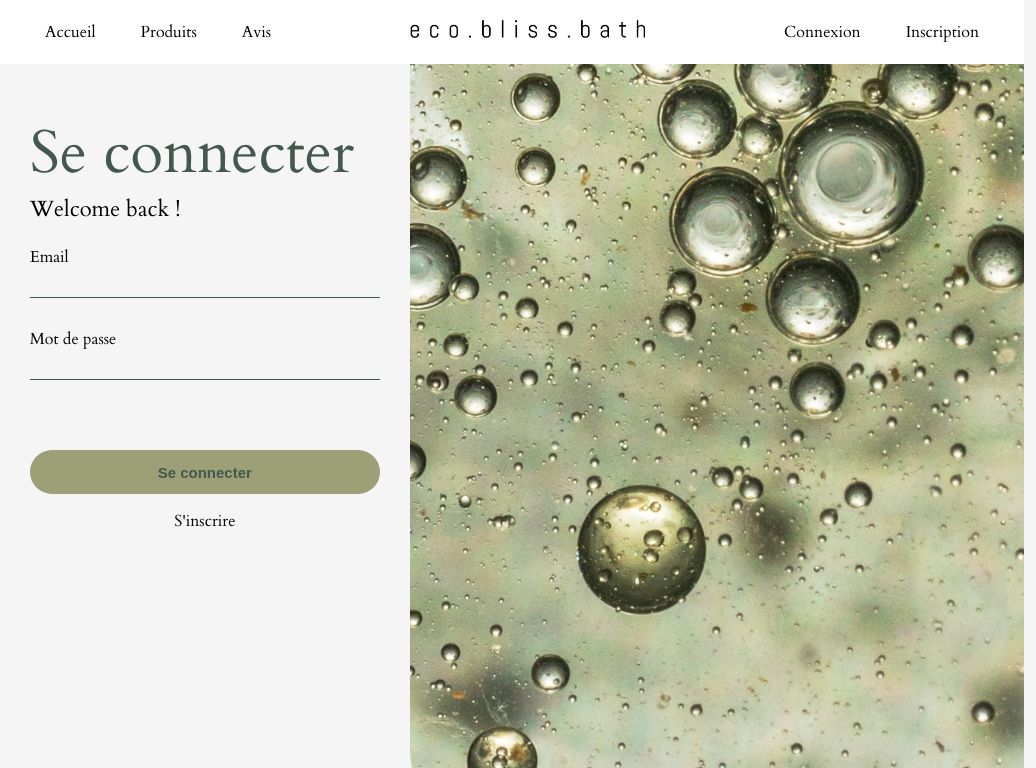
Scenario: Tests de sécurité XSS sur la page de connexion › Ne doit pas exécuter un script XSS via une balise img
Step 1. Type "<img src=x onerror=alert(\"XSS\")>" into the field with test id "login-input-username" → (205, 283), box [30, 268, 380, 298]
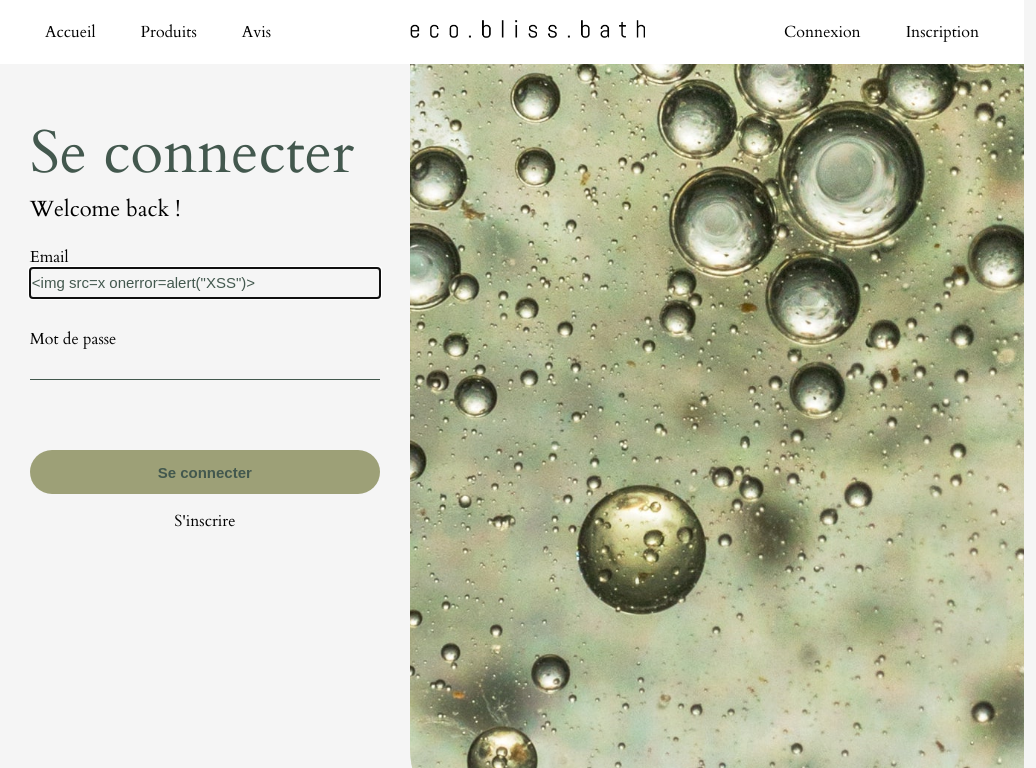
Step 2. Type "testtest" into the password field with test id "login-input-password" → (205, 365), box [30, 350, 380, 380]
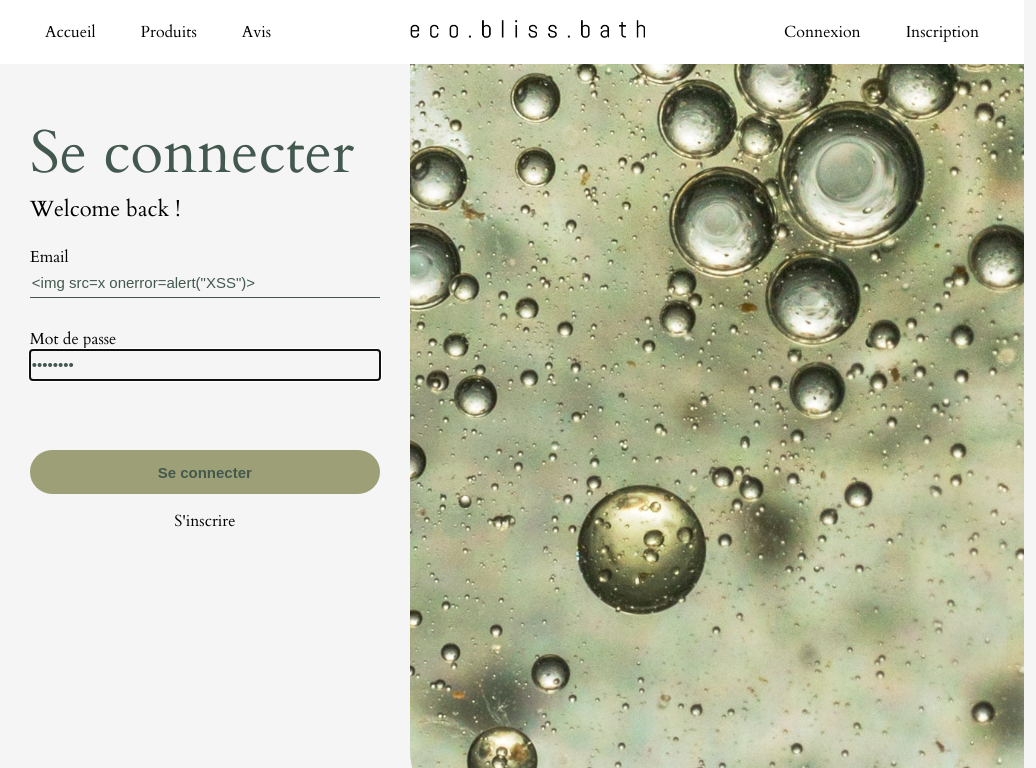
Step 3. Click the button with test id "login-submit" → (205, 472), box [30, 450, 380, 494]
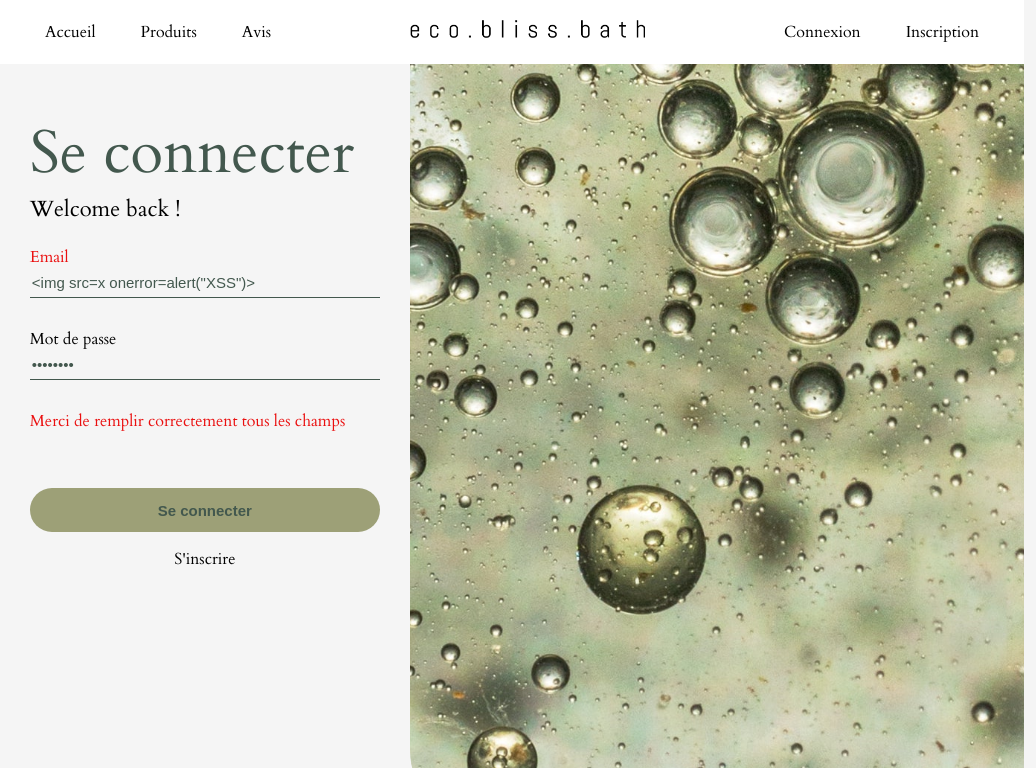
expect the element with test id "login-errors" does not show "<img": met
expect the text with test id "login-errors" reads "Merci de remplir correctement tous les champs": met, box [30, 410, 345, 432]
